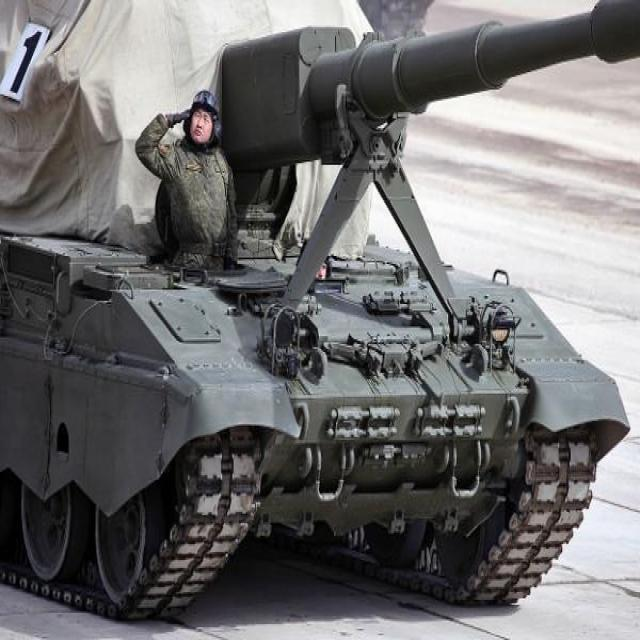MIL_MBT: (17, 21, 597, 614)
